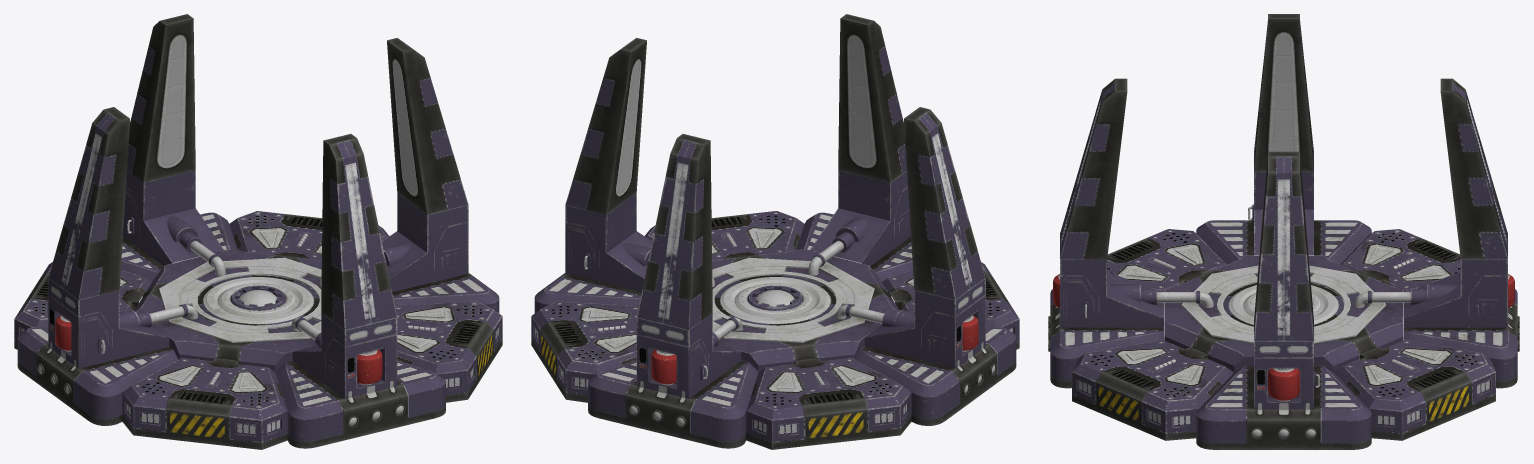
The picture shows the model from 3 angles, left to right: view 1: azimuth 30°, elevation 25°; view 2: azimuth 150°, elevation 25°; view 3: azimuth 270°, elevation 25°; orthographic projection.
Visible parts, largest first — view 1: root; view 2: root; view 3: root.
Part boxes in pixels (<box>): root: <box>14,14,502,449</box>; root: <box>531,14,1019,449</box>; root: <box>1048,14,1519,449</box>.
Size of the model in its own units: 4.03 by 2.5 by 4.03.
1 material, 1 textured.
